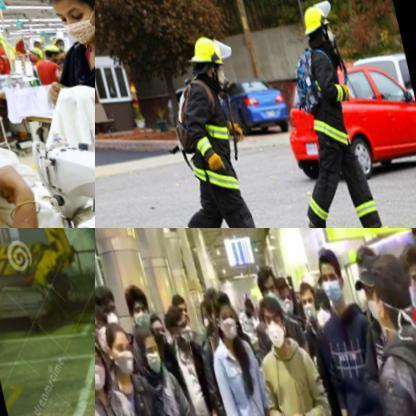Boots: (189, 32, 226, 66), (303, 0, 332, 38)
Glass: (287, 37, 362, 161), (181, 71, 241, 191)
